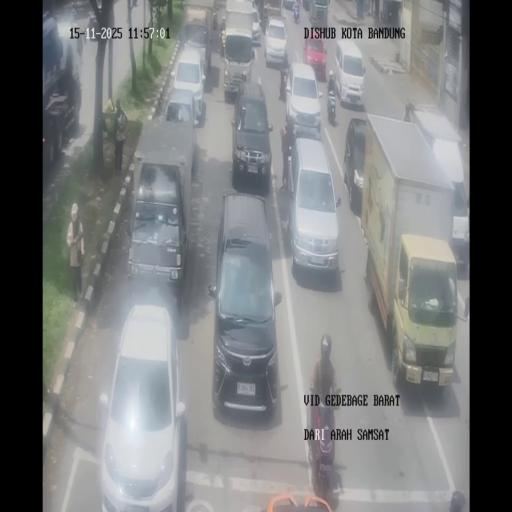car: (98, 302, 186, 507), (209, 190, 281, 416), (287, 137, 341, 278), (231, 78, 274, 192), (284, 61, 322, 138), (170, 48, 206, 122), (343, 118, 368, 213), (334, 39, 365, 107), (264, 16, 289, 66), (302, 32, 326, 80), (308, 0, 328, 25), (251, 7, 261, 43), (216, 4, 226, 38)
motorcycle: (307, 394, 339, 500), (327, 87, 337, 124), (279, 64, 288, 101), (86, 11, 97, 41), (292, 2, 300, 23), (70, 2, 78, 23), (212, 9, 218, 32)
truck: (358, 112, 464, 379), (125, 115, 195, 309), (42, 9, 83, 173), (221, 2, 256, 100), (450, 182, 470, 268)
